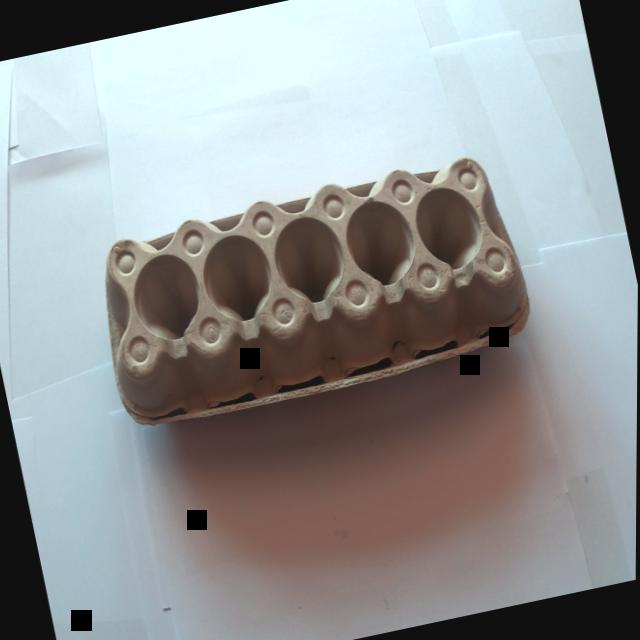Egg: (40, 111, 557, 486)
